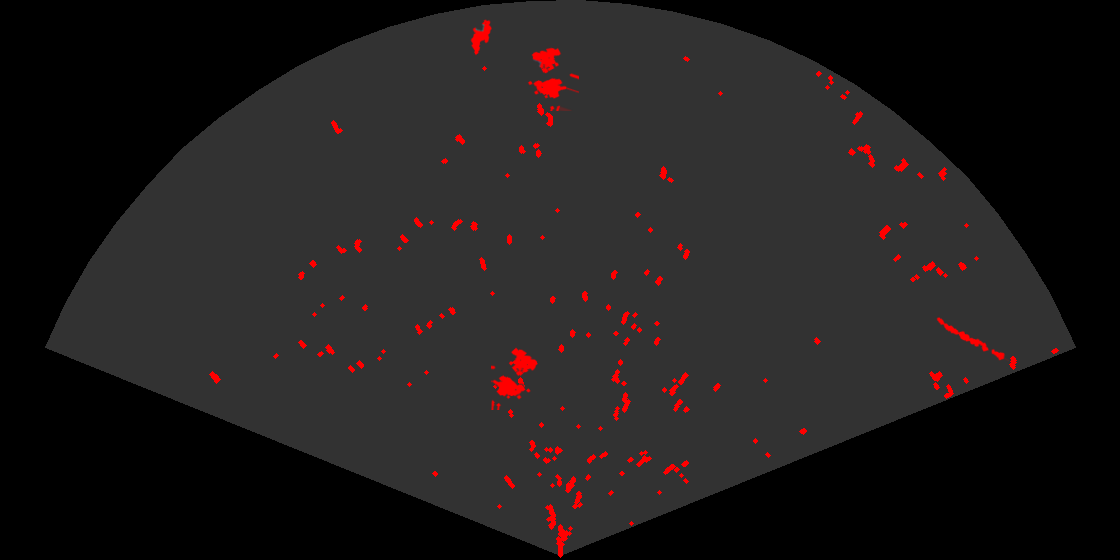AUV: (469, 18, 493, 57)
cage: (526, 46, 579, 111), (491, 346, 539, 410)
chain: (935, 316, 1009, 363)
